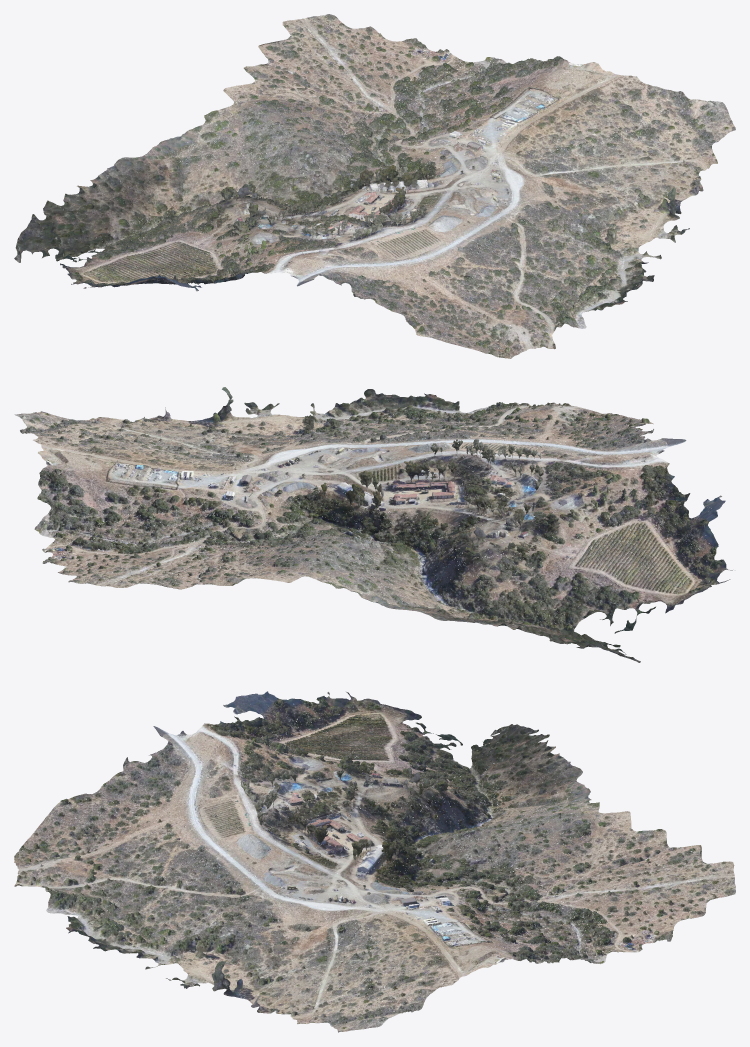
Rendered from catalina_island_3d_map.glb.
The picture shows the model from 3 angles, top to bottom: view 1: azimuth 30°, elevation 25°; view 2: azimuth 150°, elevation 25°; view 3: azimuth 270°, elevation 25°; orthographic projection. The views are drawn at different scales.
Parts seen in each view (by area): view 1: mesh_out_node; view 2: mesh_out_node; view 3: mesh_out_node.
Boxes of the visible parts, x1,y1,x2,y2 form: mesh_out_node: [14, 14, 735, 358]; mesh_out_node: [14, 387, 732, 662]; mesh_out_node: [14, 691, 735, 1032].
Size of the model in its own units: 814 by 78.55 by 727.
Materials: 1 (1 with a texture image).
